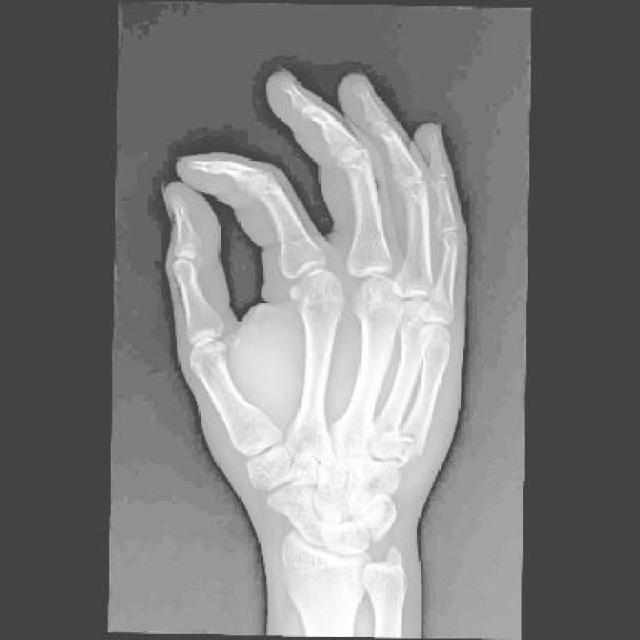Fracture: (386, 425, 424, 465)
